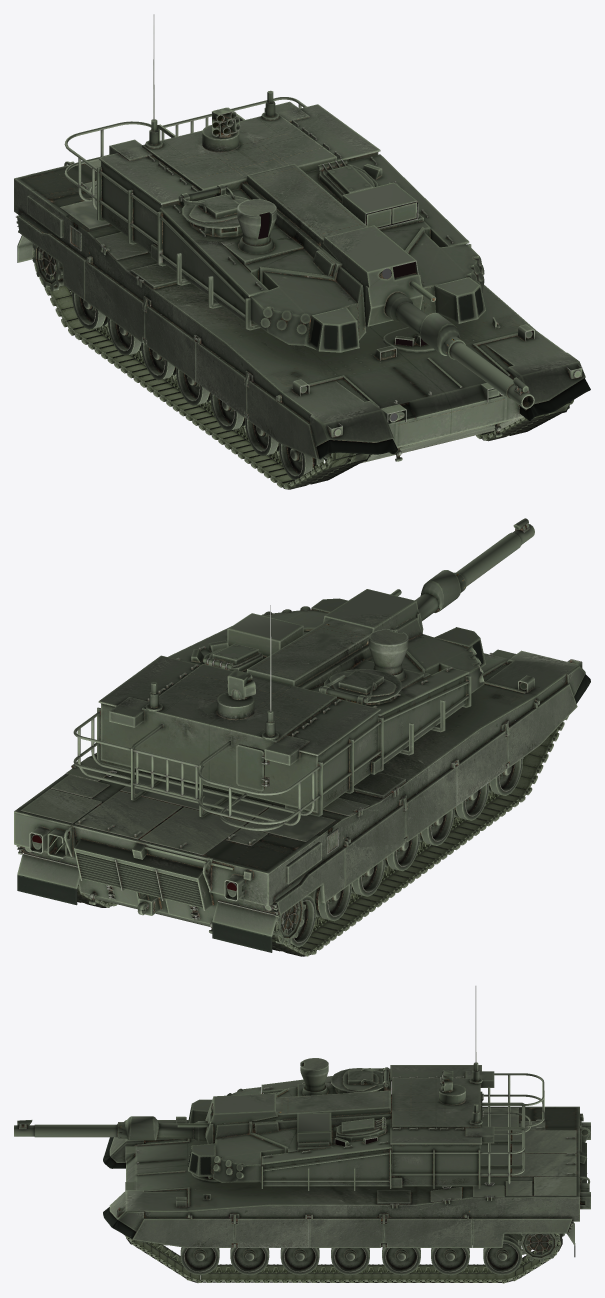
File: tank.obj
3 renders of one model, top to bottom at view 1: azimuth 30°, elevation 25°; view 2: azimuth 150°, elevation 25°; view 3: azimuth 270°, elevation 25°, orthographic. The views are drawn at different scales.
Visible parts, largest first — view 1: obj106; view 2: obj106; view 3: obj106.
Boxes of the visible parts, x1=… form: obj106: x1=14, y1=14, x2=590, y2=479; obj106: x1=14, y1=518, x2=590, y2=952; obj106: x1=14, y1=986, x2=590, y2=1275.
Size of the model in its own units: 367 by 428 by 954.
6 materials, 2 textured.
